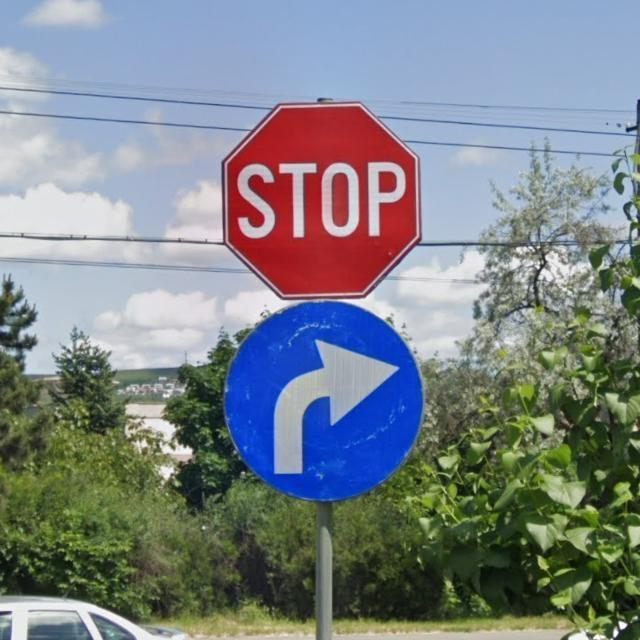prio_stop: (220, 100, 424, 298)
